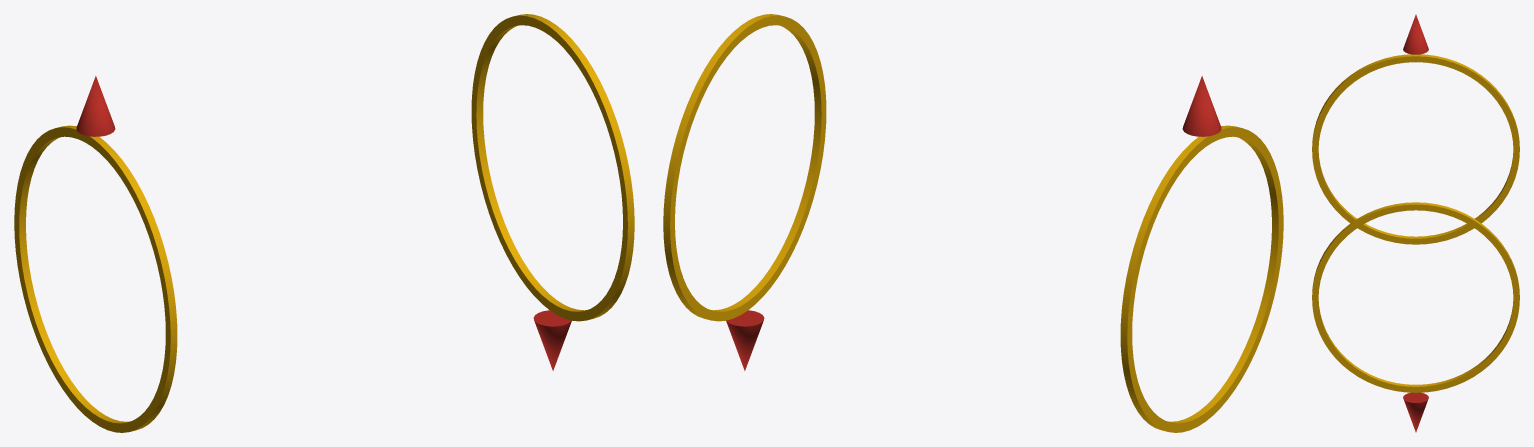
File: rotor_assembly_balance.glb
3 views of the same model, side by side, from view 1: azimuth 30°, elevation 25°; view 2: azimuth 150°, elevation 25°; view 3: azimuth 270°, elevation 25° (orthographic). The views are drawn at different scales.
Parts seen in each view (by area): view 1: bal; view 2: bal; view 3: bal.
Part boxes in pixels (x1,y1,x2,y2): bal: [14, 14, 634, 432]; bal: [663, 14, 1283, 432]; bal: [1312, 14, 1519, 432].
Size of the model in its own units: 0.58 by 0.46 by 0.32.
